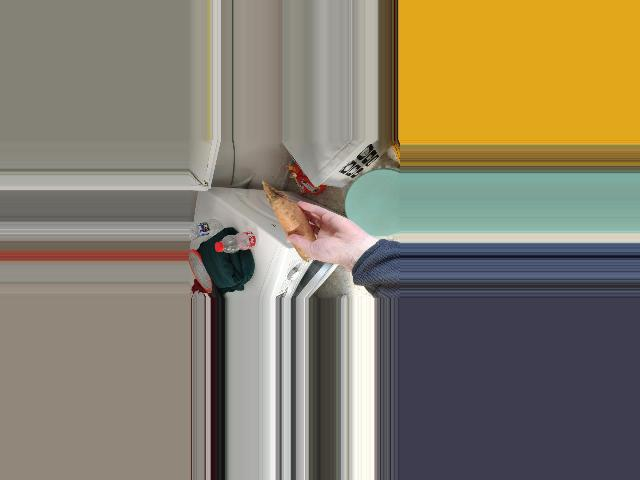sweet_potato: (275, 202, 311, 252)
